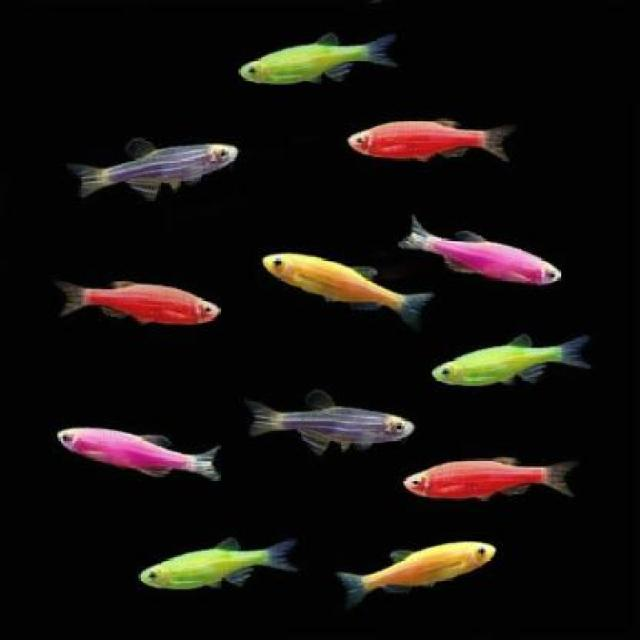ZebraFish: (398, 210, 562, 285), (72, 132, 239, 200), (264, 252, 428, 320), (248, 386, 410, 454), (430, 328, 592, 392), (53, 419, 221, 479), (340, 538, 494, 600), (136, 535, 292, 594), (63, 272, 220, 326), (240, 28, 391, 83), (404, 456, 565, 504), (348, 118, 510, 159)
